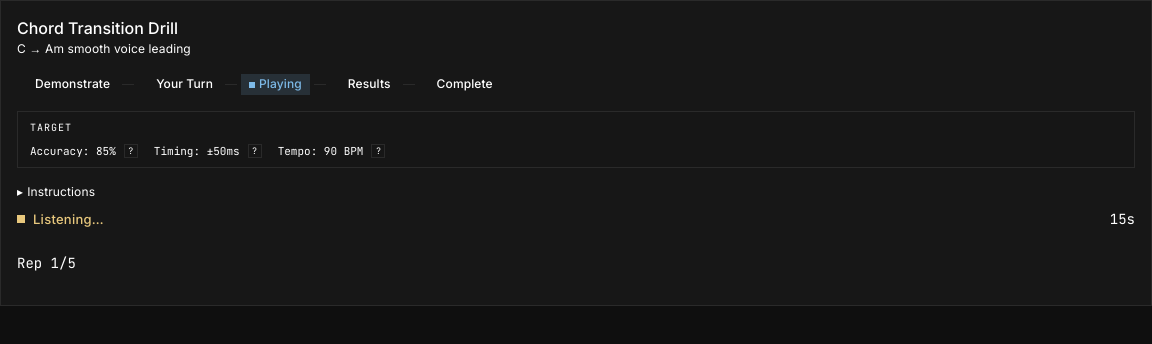
Scenario: DrillController › Instructions visibility and real-time feedback › expands instructions when toggle clicked
Click the button "▸ Instructions".
click(56, 193)  # box [17,184,95,201]
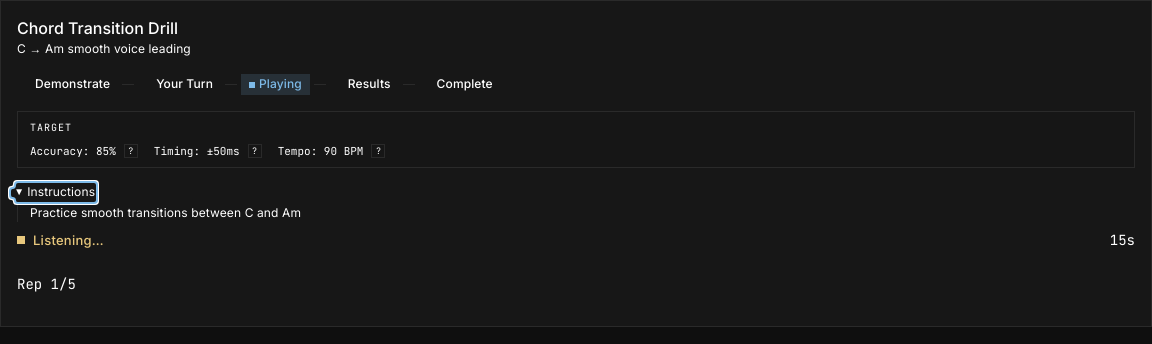
Expected: the text "Practice smooth transitions between C and Am" is shown, [17,205,1135,222]
